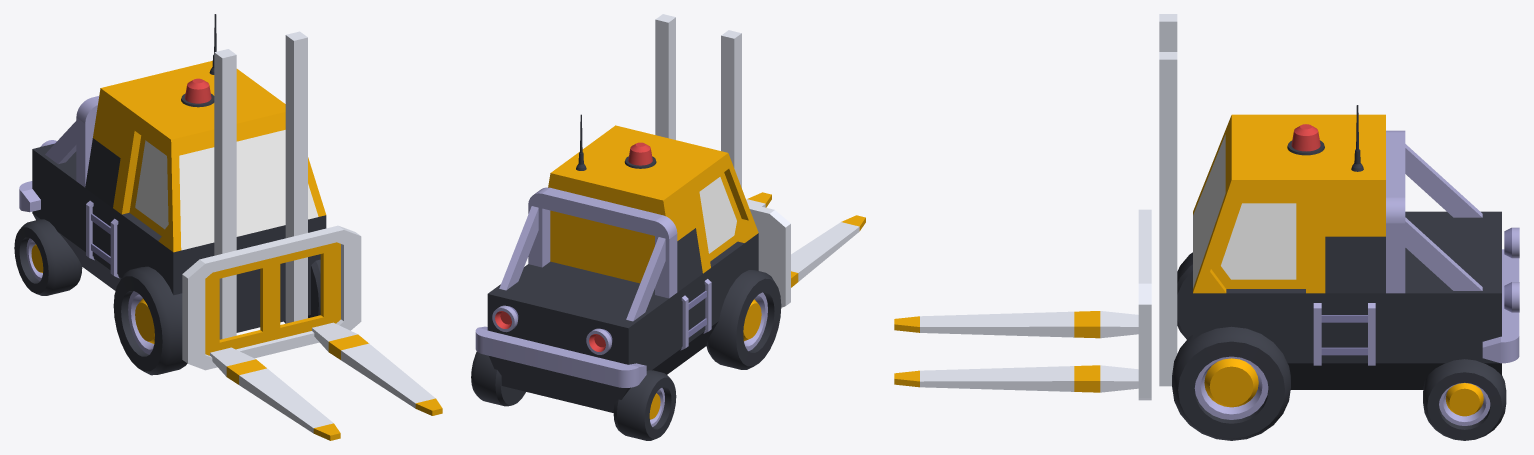
The model's file is Truck.fbx.
The picture shows the model from 3 angles, left to right: view 1: azimuth 30°, elevation 25°; view 2: azimuth 150°, elevation 25°; view 3: azimuth 270°, elevation 25°; orthographic projection. The views are drawn at different scales.
Visible parts, largest first — view 1: Cockpit, Fork.Base, Fork.Rails, Body.Front, FrontWheel.R, Body.Back, BackWheel.R, Fork.L, Fork.R, RollCage, SideRails.R, AlarmLight (+2 smaller); view 2: Cockpit, Body.Back, RollCage, Fork.Rails, FrontWheel.R, BackBumper, Body.Front, BackWheel.R, Fork.Base, Fork.R, BackWheel.L, SideRails.R (+3 smaller); view 3: Cockpit, Body.Back, Body.Front, FrontWheel.L, RollCage, Fork.Rails, BackWheel.L, Fork.L, Fork.R, Fork.Base, BackBumper, SideRail.L (+2 smaller).
Boxes of the visible parts, box(x1,y1,x2,y2) form: Cockpit: box(85, 61, 326, 252); Fork.Base: box(182, 225, 361, 370); Fork.Rails: box(214, 31, 307, 339); Body.Front: box(85, 188, 326, 332); FrontWheel.R: box(113, 266, 187, 375); Body.Back: box(32, 143, 100, 279); BackWheel.R: box(14, 219, 82, 295); Fork.L: box(312, 322, 442, 415); Fork.R: box(210, 347, 340, 440); RollCage: box(45, 96, 99, 187); SideRails.R: box(86, 200, 119, 278); AlarmLight: box(181, 78, 214, 107); Cockpit: box(548, 125, 758, 292); Body.Back: box(487, 261, 677, 412); RollCage: box(499, 187, 677, 321); Fork.Rails: box(655, 14, 741, 187); FrontWheel.R: box(706, 270, 781, 369); BackBumper: box(475, 326, 646, 387); Body.Front: box(665, 233, 758, 374); BackWheel.R: box(613, 370, 676, 440); Fork.Base: box(747, 203, 790, 307); Fork.R: box(791, 215, 865, 287); BackWheel.L: box(471, 351, 525, 406); SideRails.R: box(680, 279, 711, 350); Cockpit: box(1193, 114, 1385, 293); Body.Back: box(1386, 211, 1501, 389); Body.Front: box(1193, 289, 1385, 389); FrontWheel.L: box(1172, 326, 1290, 440); RollCage: box(1386, 130, 1482, 293); Fork.Rails: box(1159, 14, 1177, 386); BackWheel.L: box(1423, 359, 1506, 440); Fork.L: box(894, 365, 1138, 392); Fork.R: box(894, 311, 1138, 338); Fork.Base: box(1138, 209, 1151, 400); BackBumper: box(1482, 249, 1519, 363); SideRail.L: box(1313, 303, 1375, 365).
Size of the model in its own units: 18.49 by 30.6 by 48.6.
